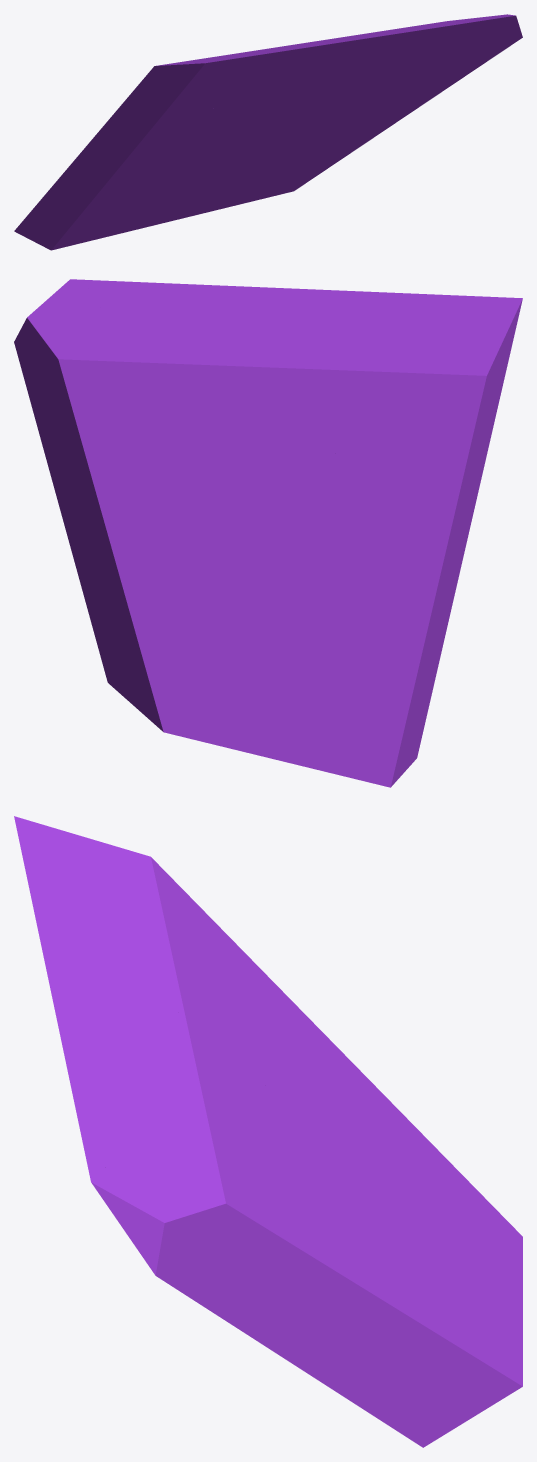
Rendered from Window_125_0_chunks.fbx.
3 renders of one model, top to bottom at view 1: azimuth 30°, elevation 25°; view 2: azimuth 150°, elevation 25°; view 3: azimuth 270°, elevation 25°, orthographic. The views are drawn at different scales.
Parts seen in each view (by area): view 1: Window_125_0_2, Window_125_0_1, Window_125_0_3, Window_125_0_6, Window_125_0_0, Window_125_0_4, Window_125_0_5; view 2: Window_125_0_2, Window_125_0_1, Window_125_0_6, Window_125_0_5, Window_125_0_3, Window_125_0_4; view 3: Window_125_0_1, Window_125_0_2, Window_125_0_6, Window_125_0_3, Window_125_0_5.
Part boxes in pixels (x1=…): Window_125_0_2: x1=14, y1=88, x2=224, y2=250; Window_125_0_1: x1=261, y1=14, x2=522, y2=199; Window_125_0_3: x1=262, y1=17, x2=506, y2=104; Window_125_0_6: x1=136, y1=45, x2=296, y2=121; Window_125_0_0: x1=215, y1=115, x2=316, y2=210; Window_125_0_4: x1=143, y1=96, x2=284, y2=132; Window_125_0_5: x1=277, y1=24, x2=438, y2=121; Window_125_0_2: x1=135, y1=430, x2=483, y2=787; Window_125_0_1: x1=14, y1=279, x2=209, y2=706; Window_125_0_6: x1=292, y1=292, x2=522, y2=452; Window_125_0_5: x1=113, y1=327, x2=320, y2=473; Window_125_0_3: x1=84, y1=279, x2=388, y2=365; Window_125_0_4: x1=310, y1=434, x2=489, y2=466; Window_125_0_1: x1=89, y1=1142, x2=472, y2=1447; Window_125_0_2: x1=200, y1=907, x2=522, y2=1416; Window_125_0_6: x1=14, y1=816, x2=235, y2=1038; Window_125_0_3: x1=37, y1=924, x2=180, y2=1171; Window_125_0_5: x1=159, y1=1013, x2=292, y2=1159.
Size of the model in its own units: 812 by 512 by 516.
